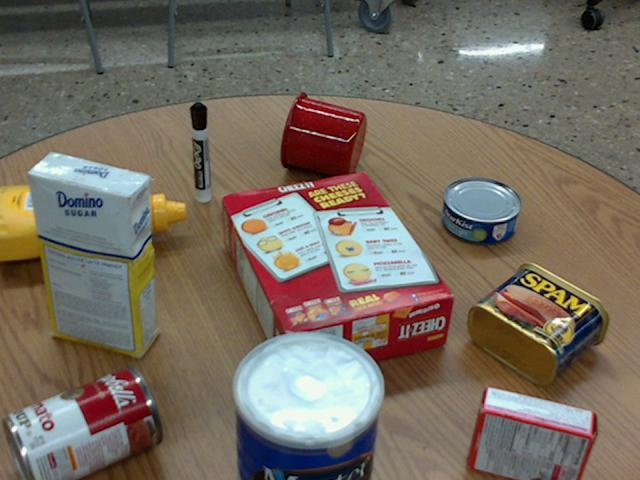cracker_box: (219, 172, 452, 377)
gelatin_box: (467, 385, 595, 479)
large_marker: (189, 102, 209, 201)
master_chef_can: (230, 332, 380, 479)
mug: (280, 92, 365, 178)
mustard_bottle: (0, 182, 184, 261)
potted_meat_can: (469, 261, 609, 385)
sugar_box: (27, 152, 154, 358)
tomato_soup_can: (4, 365, 161, 479)
tuna_fish_can: (441, 177, 521, 243)
